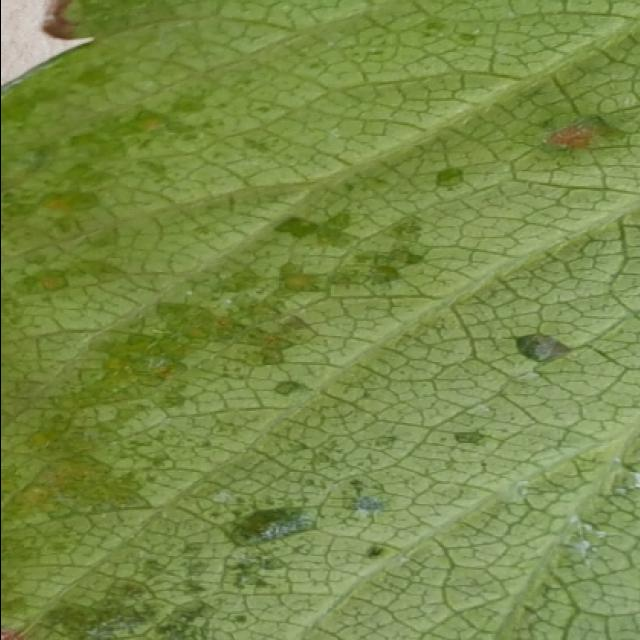Angular Leafspot: (2, 0, 613, 638)
